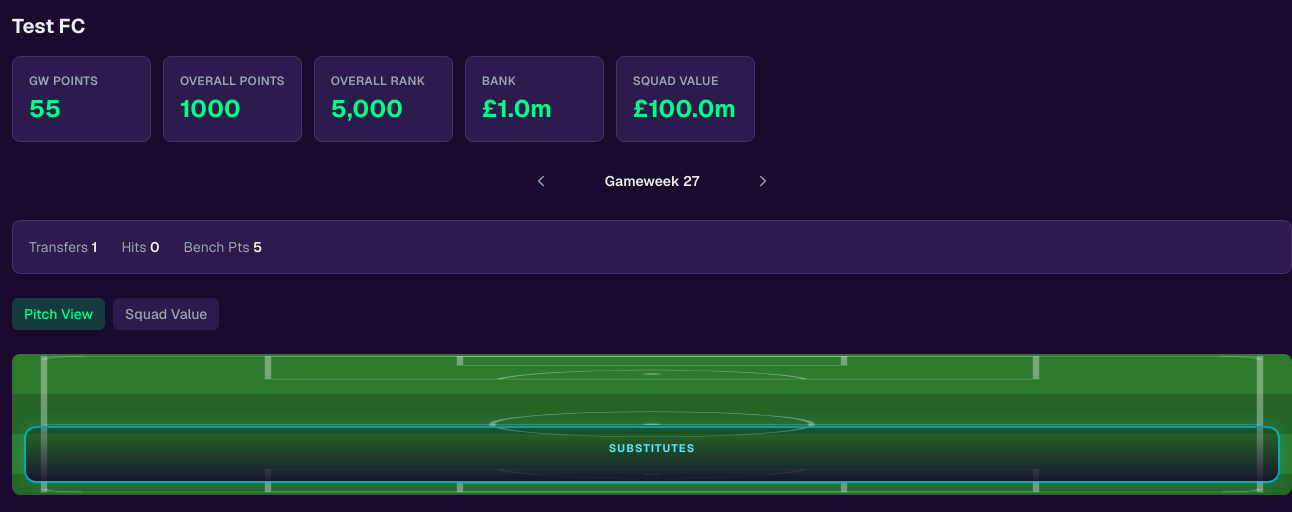
Scenario: TeamPage pending squad › shows connect message when pending picks returns auth error
The width and height of the screenshot is (1292, 512).
Click the button named "next gameweek": {"x": 763, "y": 181} [748,166,778,196]
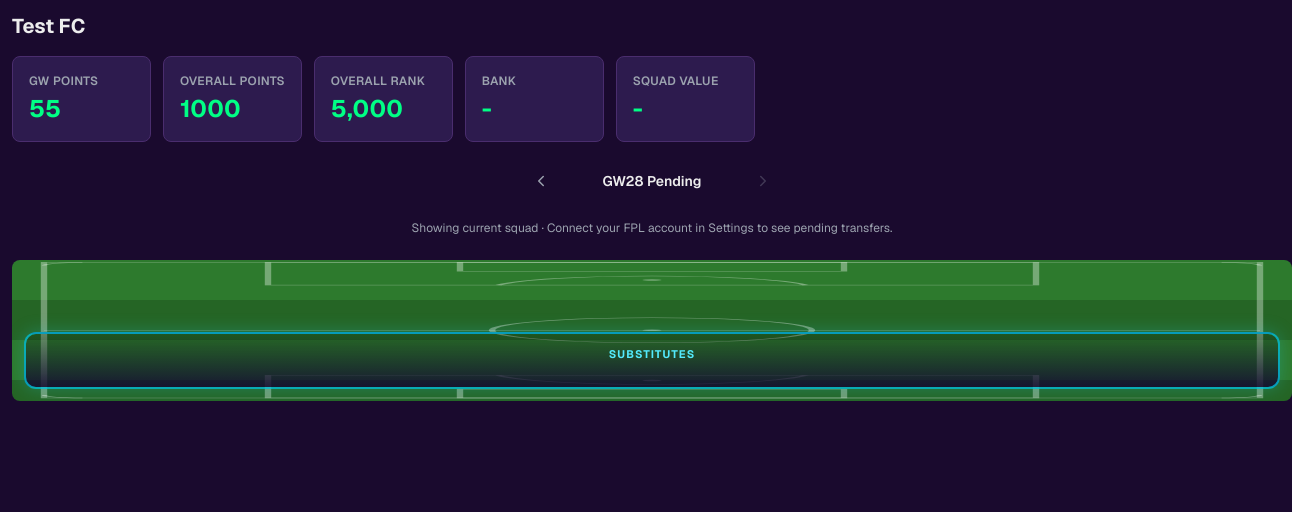
Now the text "Connect your FPL account" is shown, box [412,220,892,236]
